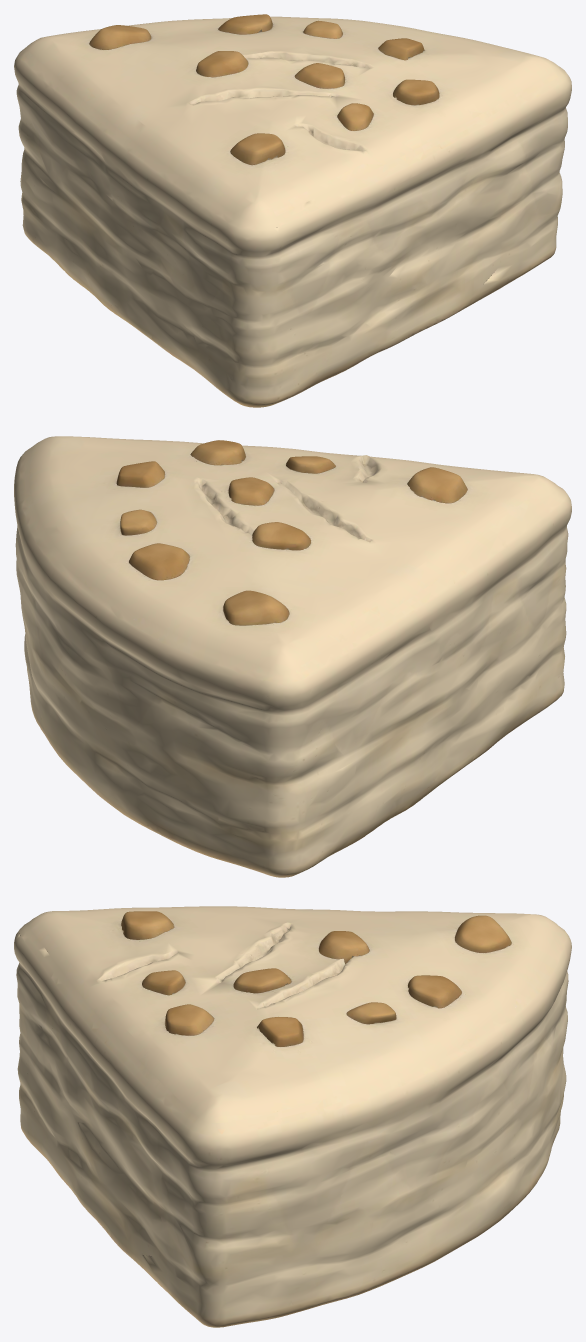
The model's file is scone--walnut-piece.glb.
3 renders of one model, top to bottom at view 1: azimuth 30°, elevation 25°; view 2: azimuth 150°, elevation 25°; view 3: azimuth 270°, elevation 25°, orthographic. The views are drawn at different scales.
Visible parts, largest first — view 1: scone_walnut-piece; view 2: scone_walnut-piece; view 3: scone_walnut-piece.
Part boxes in pixels (x1,y1,x2,y2): scone_walnut-piece: (14, 14, 571, 407); scone_walnut-piece: (14, 436, 571, 877); scone_walnut-piece: (14, 906, 571, 1327).
Bounding box in the file's own units: 0.9405 × 0.4842 × 0.977.
Materials: 1 (1 with a texture image).
